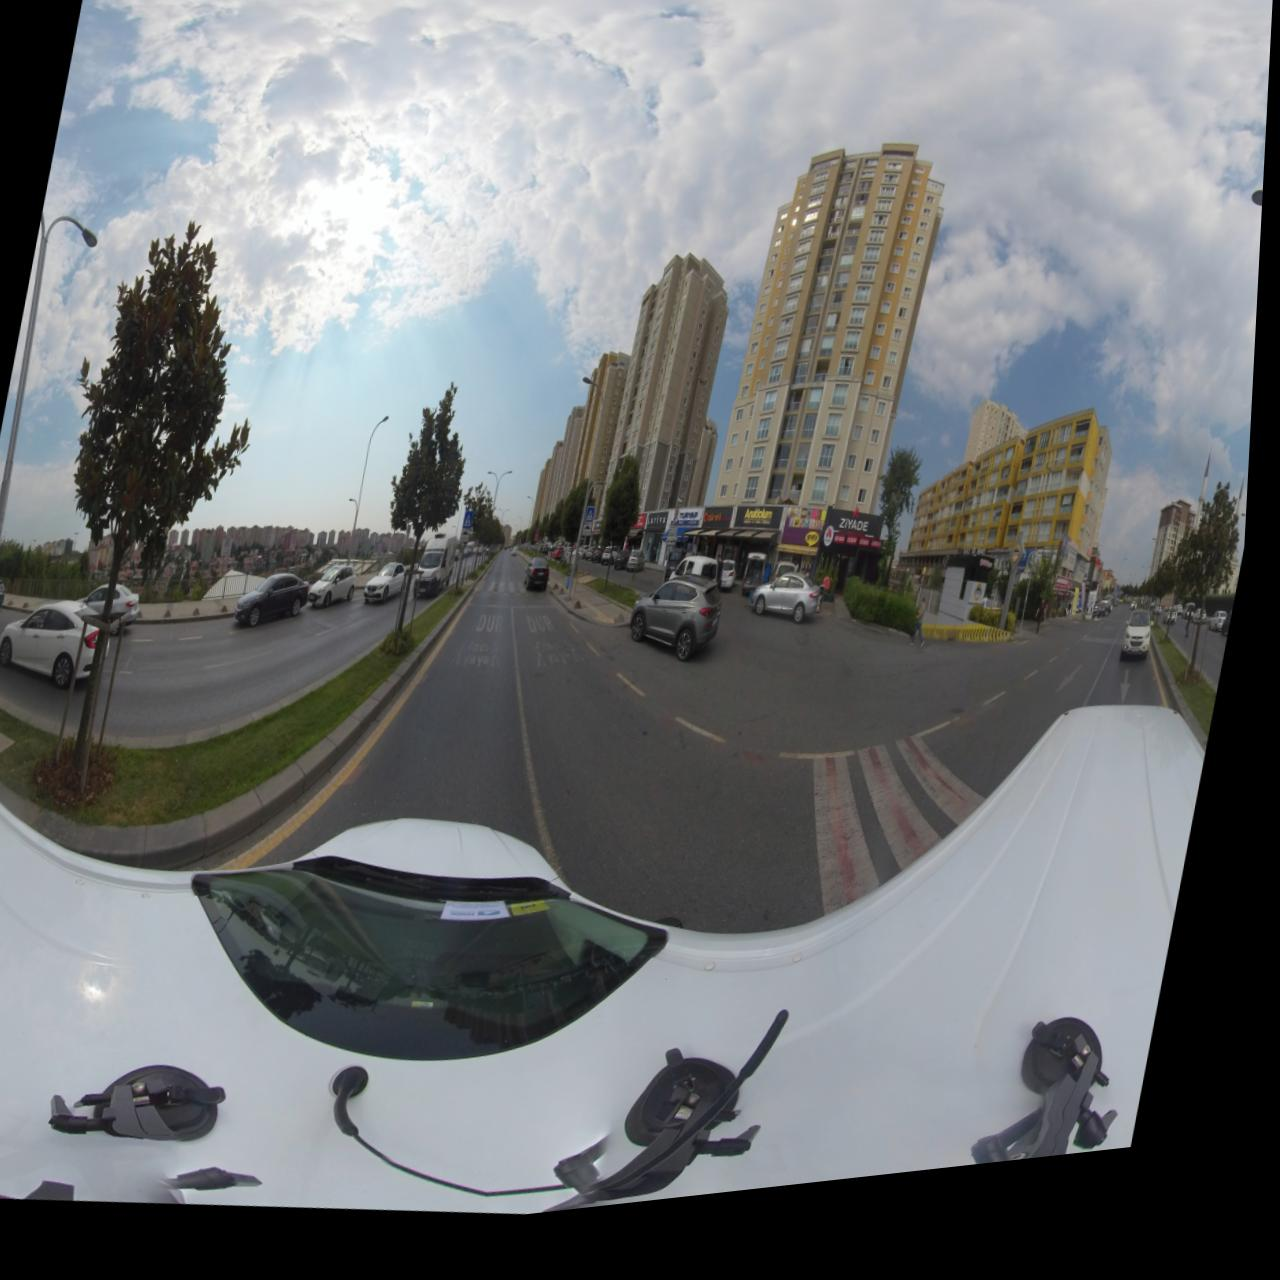SignStore: (839, 530, 880, 558), (744, 524, 785, 547), (789, 546, 828, 566), (708, 524, 740, 545), (653, 529, 674, 543), (685, 525, 708, 537), (1062, 600, 1080, 615), (969, 571, 993, 578)
